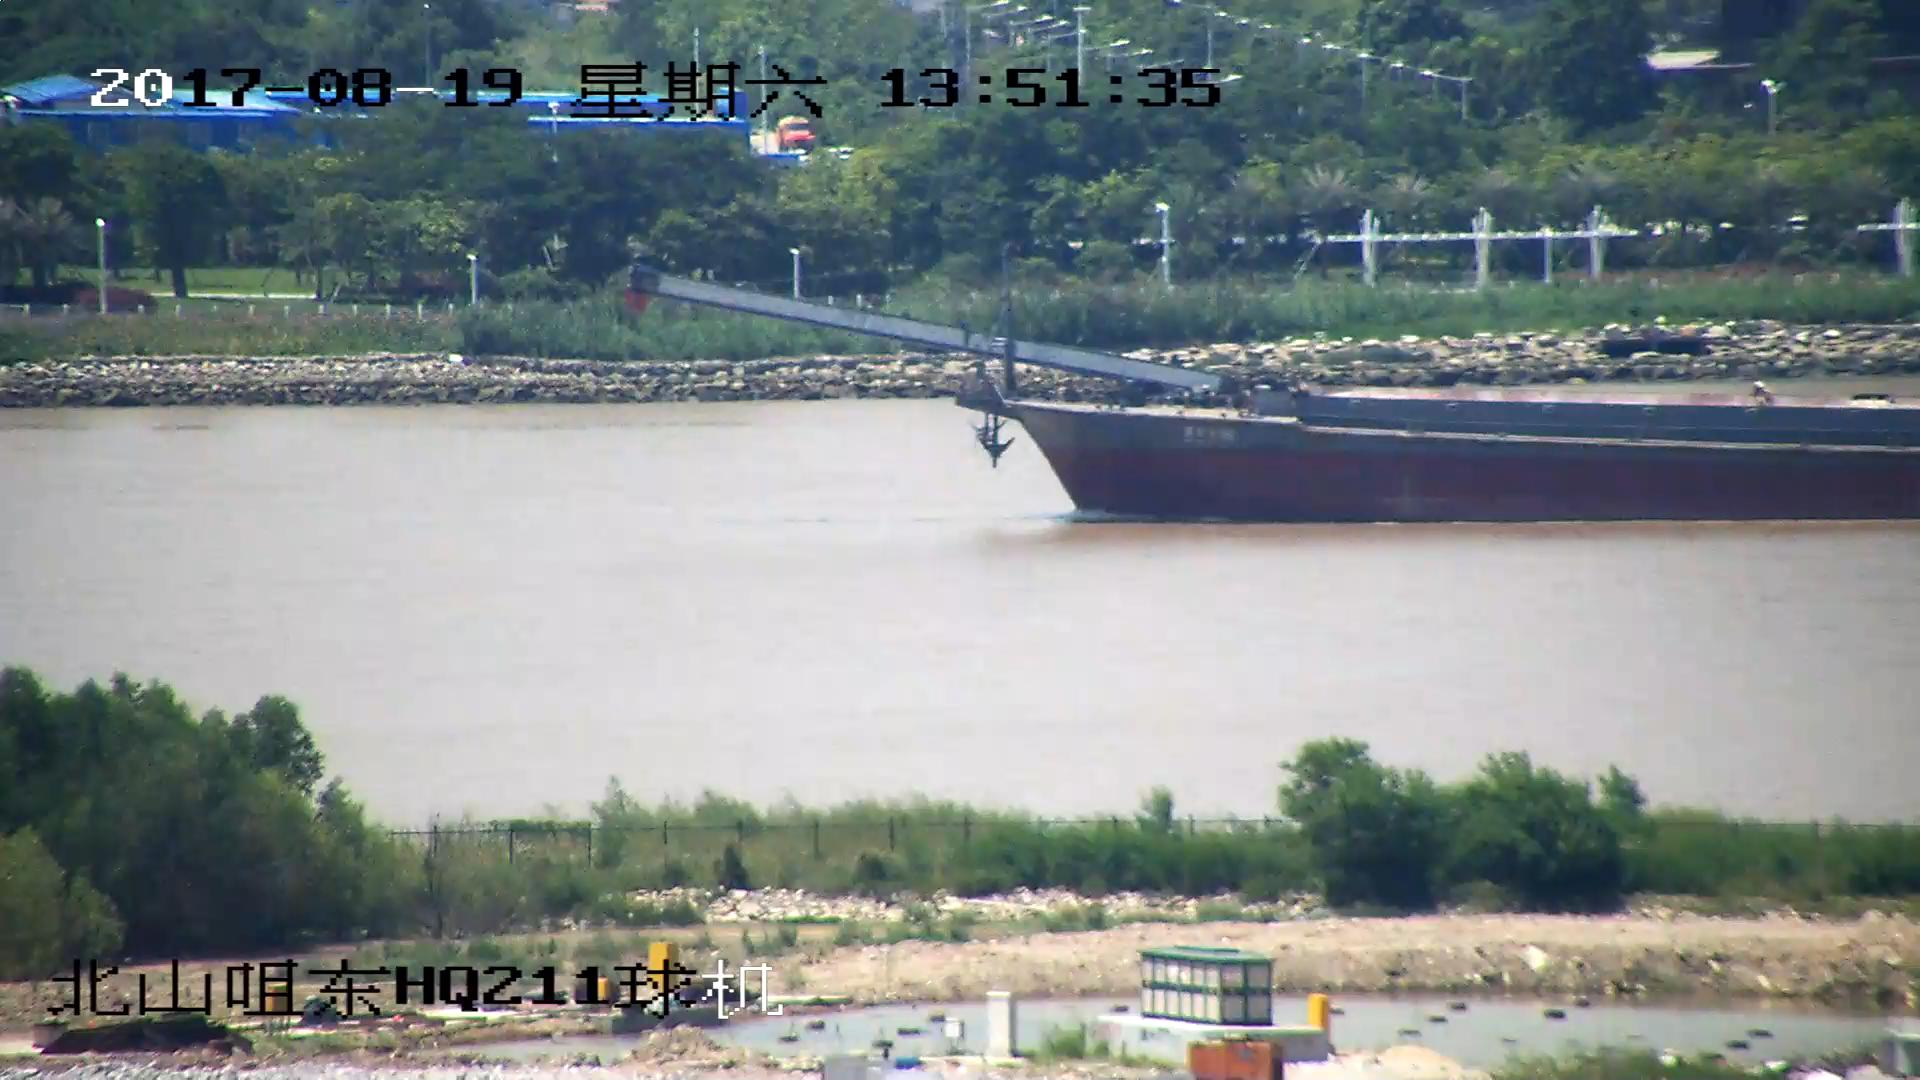bulk cargo carrier: (634, 255, 1920, 522)
